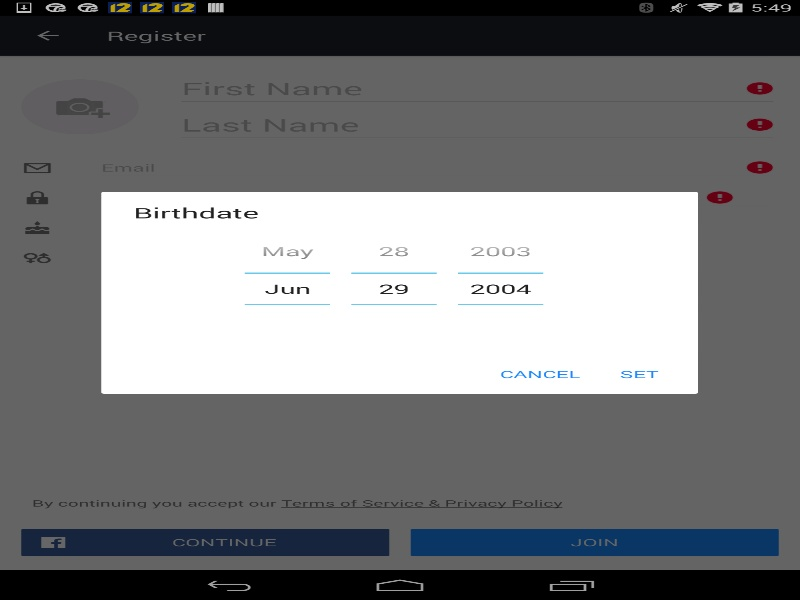Button: (484, 357, 596, 391), (244, 232, 330, 273), (351, 232, 436, 273), (458, 232, 543, 273), (596, 357, 682, 391)
Input: (244, 273, 330, 303), (351, 273, 436, 303), (458, 273, 543, 303)
